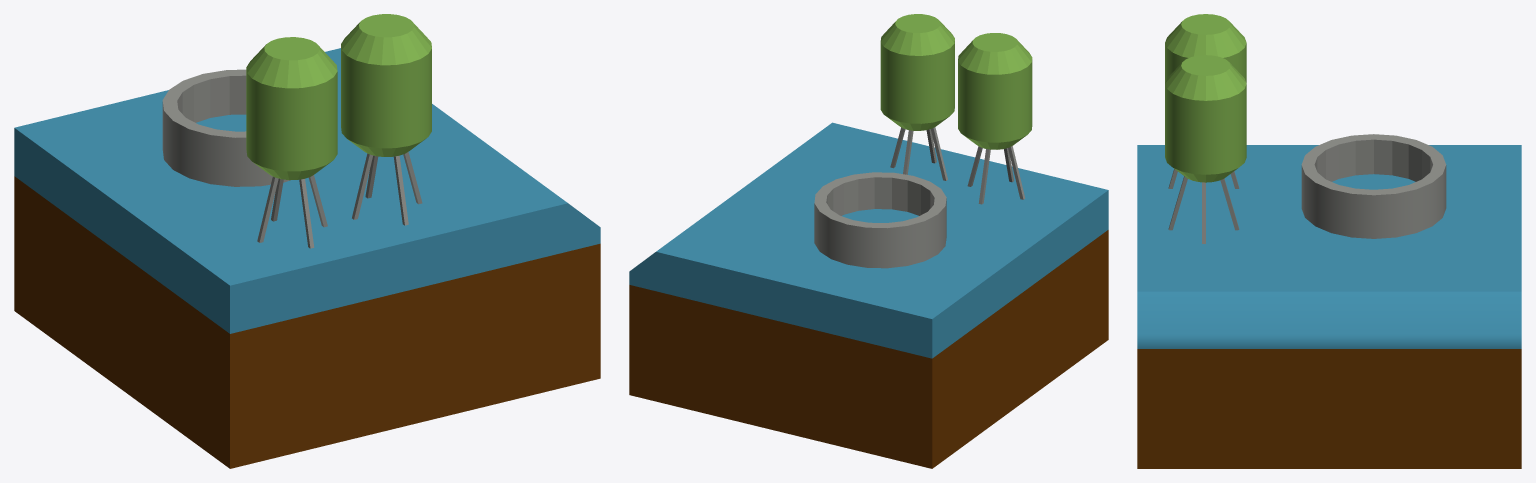
Rendered from WaterPump01.fbx.
3 views of the same model, side by side, from view 1: azimuth 30°, elevation 25°; view 2: azimuth 150°, elevation 25°; view 3: azimuth 270°, elevation 25° (orthographic). The views are drawn at different scales.
Parts seen in each view (by area): view 1: WaterPump01; view 2: WaterPump01; view 3: WaterPump01.
Part boxes in pixels (<box>): WaterPump01: <box>14,14,600,468</box>; WaterPump01: <box>629,14,1108,468</box>; WaterPump01: <box>1137,14,1521,468</box>.
Size of the model in its own units: 96.18 by 91.16 by 97.03.
Materials: 1 (1 with a texture image).
